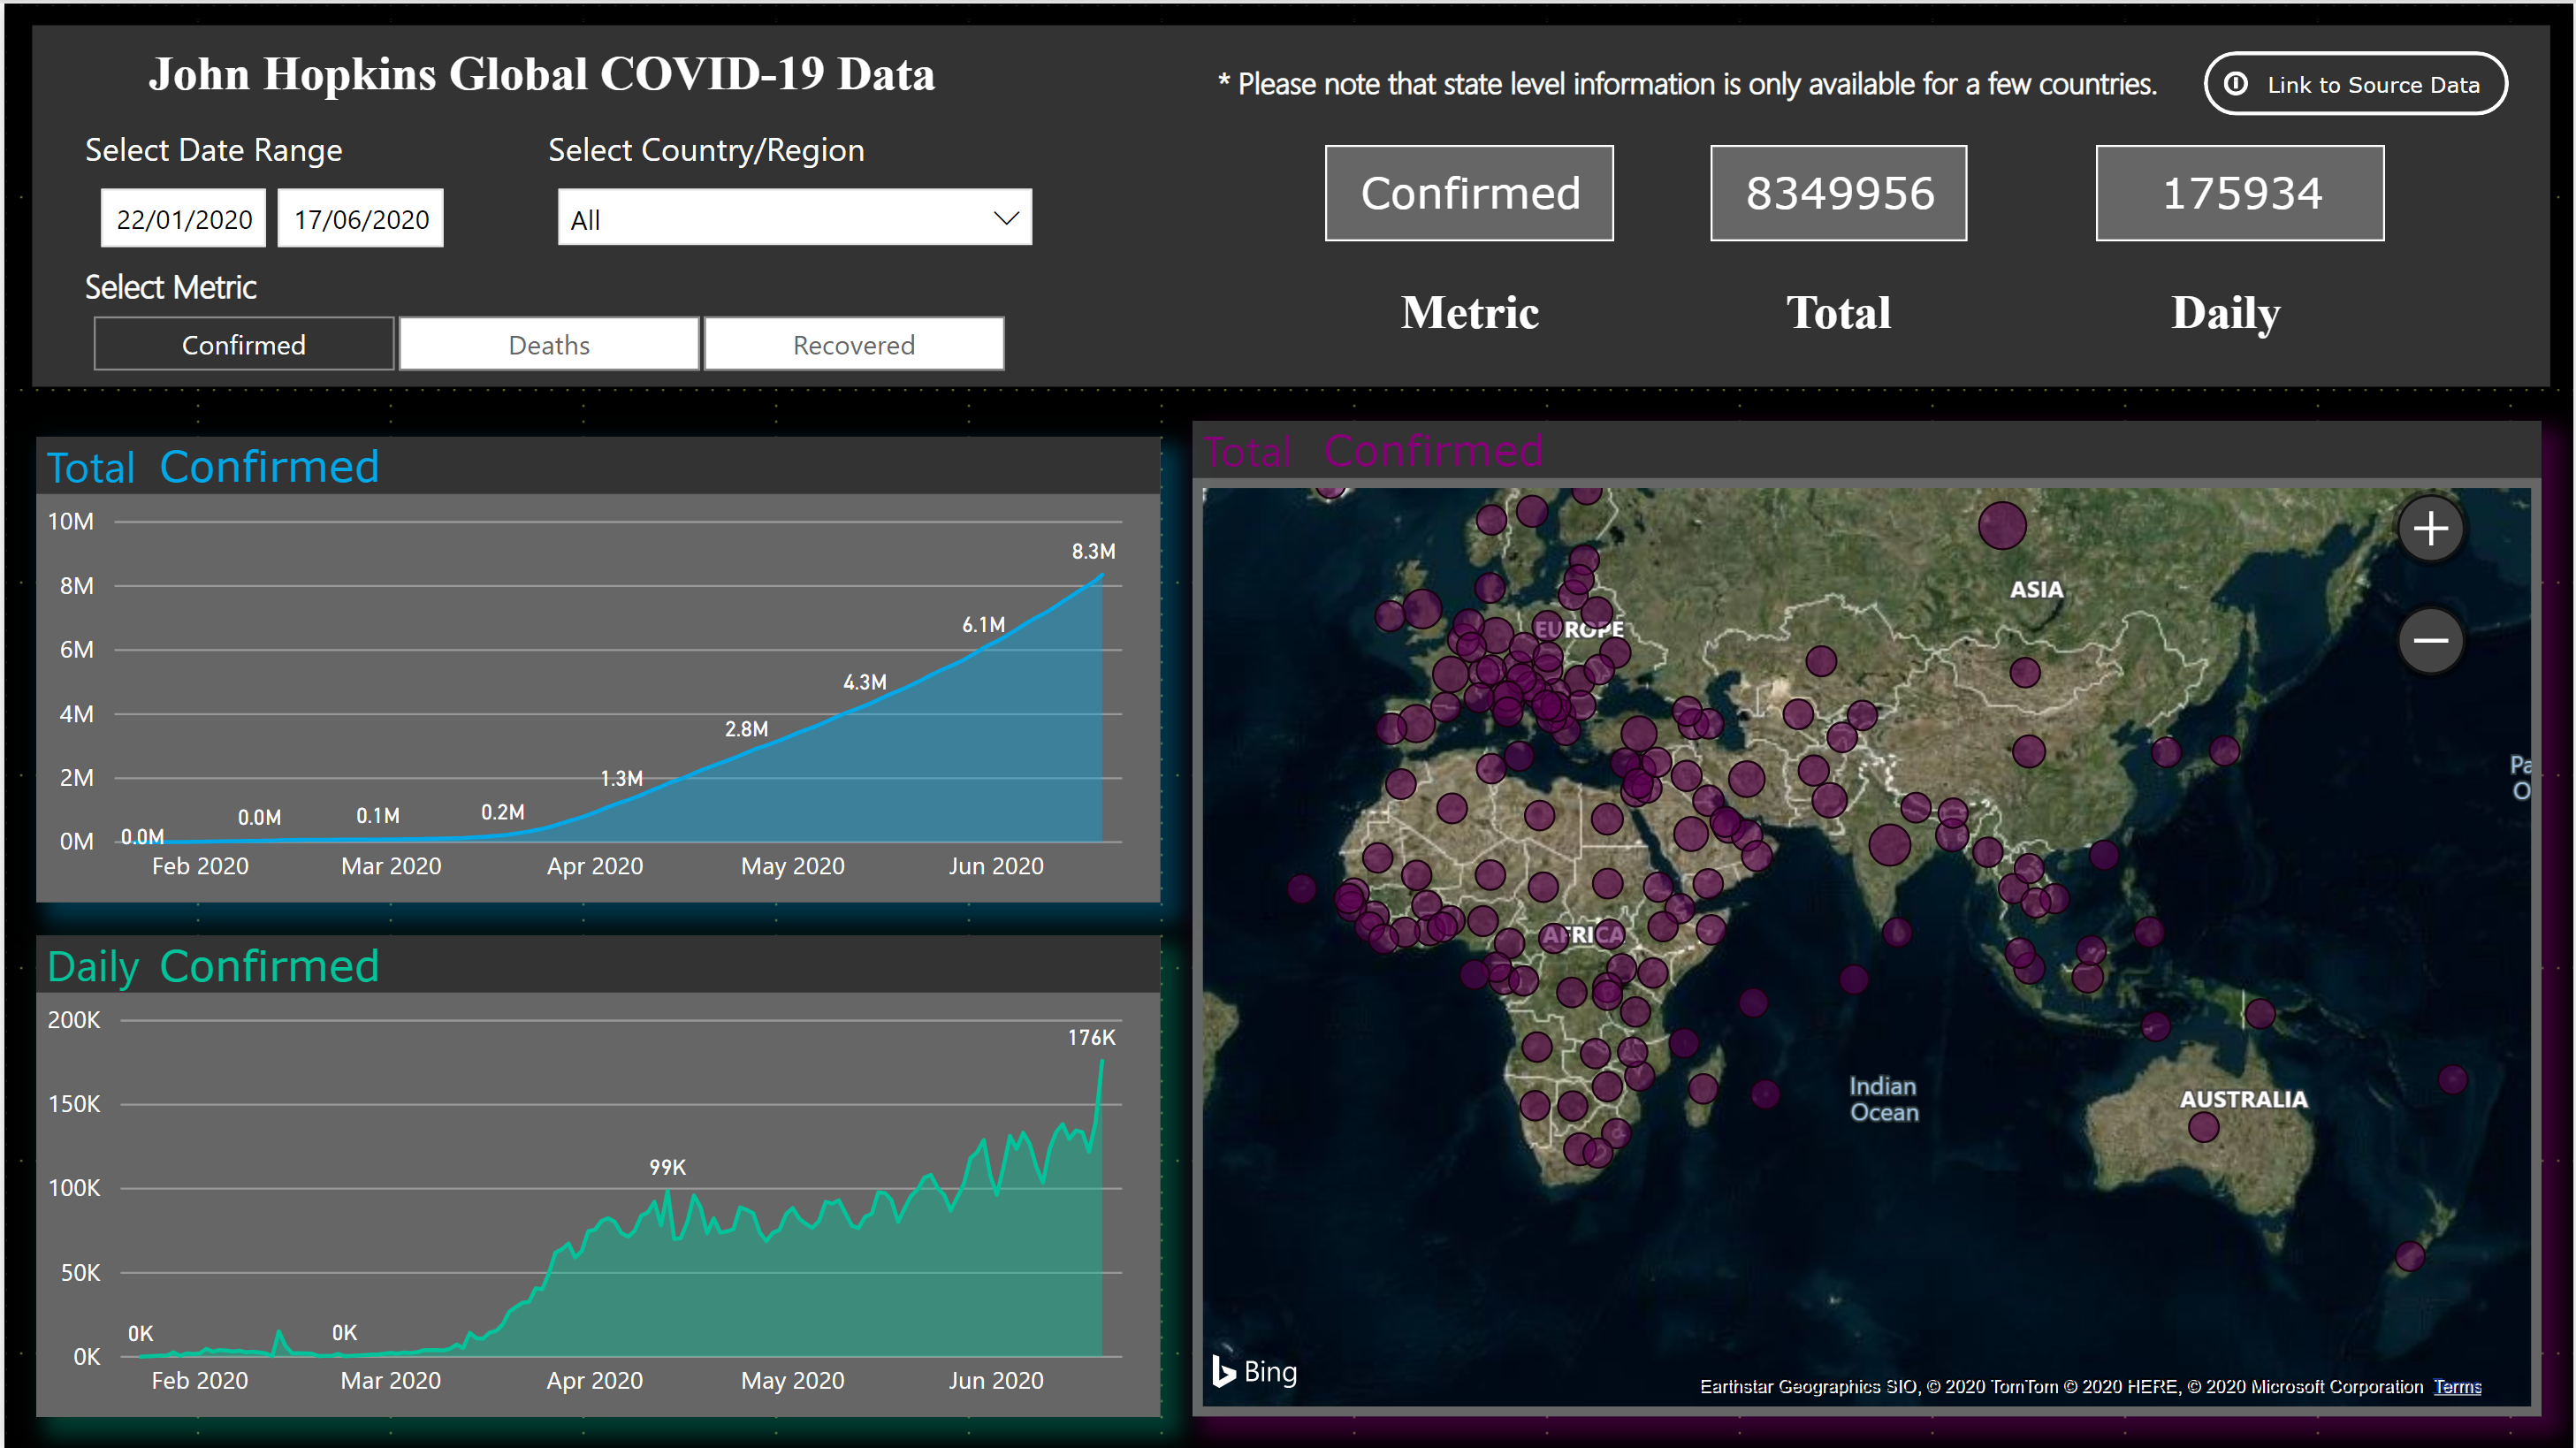

This screenshot's page, from the dashboard's own definition file:
{"tool":"powerbi","page":{"name":"JH Global Data Report 1","canvas":[1280,720],"ordinal":0},"visuals":[{"type":"basicShape","box":[0,8,1280,184],"z":0},{"type":"map","title":"Total","fields":{"Category":["COVID-19 CDR-Combined.Country/Region","COVID-19 CDR-Combined.Province/State"],"Size":["All Measures.Total Measure Logic"]},"box":[592,208,672,496],"z":2000},{"type":"areaChart","title":"Total","fields":{"Category":["Calendar.Date"],"Y":["All Measures.Total Measure Logic"]},"box":[16,216,560,232],"z":3000},{"type":"areaChart","title":"Daily","fields":{"Category":["Calendar.Date"],"Y":["All Measures.Daily Measure Logic"]},"box":[16,464,560,240],"z":4000},{"type":"card","fields":{"Values":["All Measures.Metric Selected"]},"box":[56,216,152,32],"z":5000},{"type":"card","fields":{"Values":["All Measures.Metric Selected"]},"box":[56,456,152,48],"z":6000},{"type":"textbox","box":[0,16,536,48],"z":7000},{"type":"card","fields":{"Values":["All Measures.Metric Selected"]},"box":[658.1,70.3,144,48],"z":8000},{"type":"actionButton","box":[1096,24,152,32],"z":9000},{"type":"slicer","title":"Select Date Range","fields":{"Values":["Calendar.Date"]},"box":[35.5,60.4,230.5,64.1],"z":10000},{"type":"slicer","title":"Select Country/Region","fields":{"Values":["COVID-19 CDR-Combined.Country/Region"]},"box":[266.4,60.3,256,64],"z":11000},{"type":"slicer","fields":{"Values":["Metrics.Measure"]},"box":[18.3,149.2,503.9,39.3],"z":12000},{"type":"textbox","box":[35.5,124.5,157.6,35.6],"z":13000},{"type":"textbox","box":[600,24,496,32],"z":14000},{"type":"card","fields":{"Values":["All Measures.Total Measure Logic"]},"box":[850.1,70.3,128,48],"z":15000},{"type":"card","fields":{"Values":["All Measures.Daily Measure Logic"]},"box":[1042.1,70.3,144,48],"z":16000},{"type":"textbox","box":[690.1,134.3,96,48],"z":17000},{"type":"textbox","box":[882.1,134.3,80,48],"z":18000},{"type":"textbox","box":[1074.1,134.3,80,48],"z":19000},{"type":"card","fields":{"Values":["All Measures.Metric Selected"]},"box":[640,208,144,32],"z":20000}]}

Visuals, with their boxes in screenshot pixels (x1, y1, x2, y2), scaled from the page's 1280x720 canvas onto the 2576x1448 screenshot:
basicShape: [x1=0, y1=16, x2=2575, y2=386]
"Total" map: [x1=1192, y1=418, x2=2544, y2=1416]
"Total" areaChart: [x1=32, y1=434, x2=1159, y2=901]
"Daily" areaChart: [x1=32, y1=934, x2=1159, y2=1416]
card - All Measures.Metric Selected: [x1=112, y1=434, x2=419, y2=499]
card - All Measures.Metric Selected: [x1=112, y1=917, x2=419, y2=1014]
textbox: [x1=0, y1=32, x2=1078, y2=129]
card - All Measures.Metric Selected: [x1=1324, y1=141, x2=1614, y2=238]
actionButton: [x1=2206, y1=49, x2=2511, y2=112]
"Select Date Range" slicer: [x1=72, y1=121, x2=536, y2=250]
"Select Country/Region" slicer: [x1=536, y1=121, x2=1051, y2=250]
slicer - Metrics.Measure: [x1=37, y1=300, x2=1051, y2=379]
textbox: [x1=72, y1=250, x2=389, y2=322]
textbox: [x1=1208, y1=49, x2=2206, y2=112]
card - All Measures.Total Measure Logic: [x1=1711, y1=141, x2=1969, y2=238]
card - All Measures.Daily Measure Logic: [x1=2097, y1=141, x2=2387, y2=238]
textbox: [x1=1389, y1=271, x2=1582, y2=367]
textbox: [x1=1775, y1=271, x2=1936, y2=367]
textbox: [x1=2161, y1=271, x2=2322, y2=367]
card - All Measures.Metric Selected: [x1=1288, y1=418, x2=1578, y2=483]
